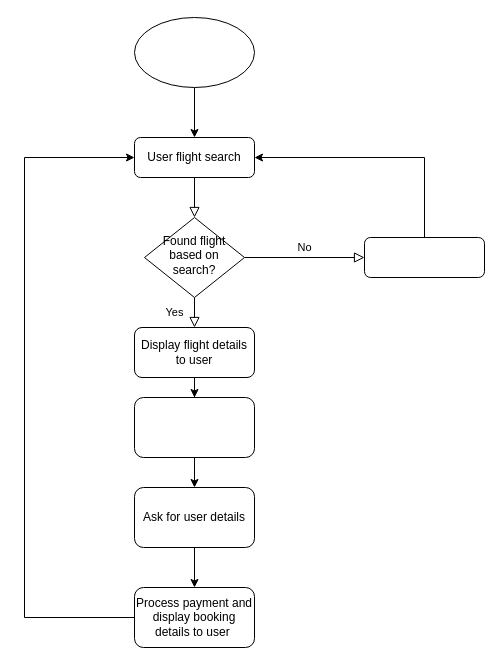
The diagram is 502 pixels wide and 665 high, and some of its shapes have lost their labels. Each missing label, with the centre of its shape:
"Display error message and provide link to home page" belongs at point (424, 257).
"Start" belongs at point (194, 52).
"User selects a flight" belongs at point (194, 427).
